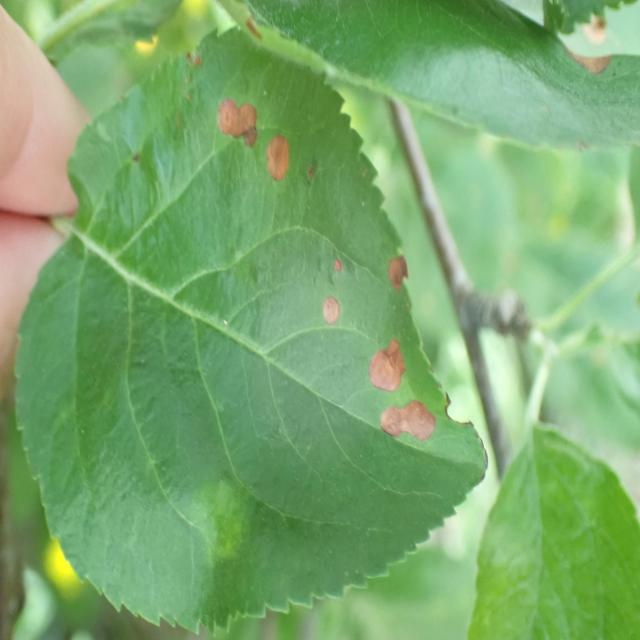Black Rot: (374, 364, 442, 464), (216, 82, 267, 165), (364, 329, 419, 400), (384, 230, 428, 314), (265, 123, 298, 205), (312, 278, 341, 358), (323, 246, 348, 286)
